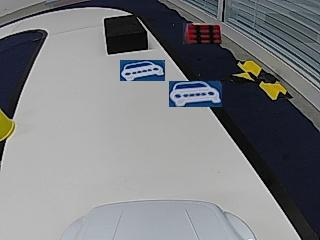block: (104, 15, 147, 53)
cone: (0, 108, 15, 140)
